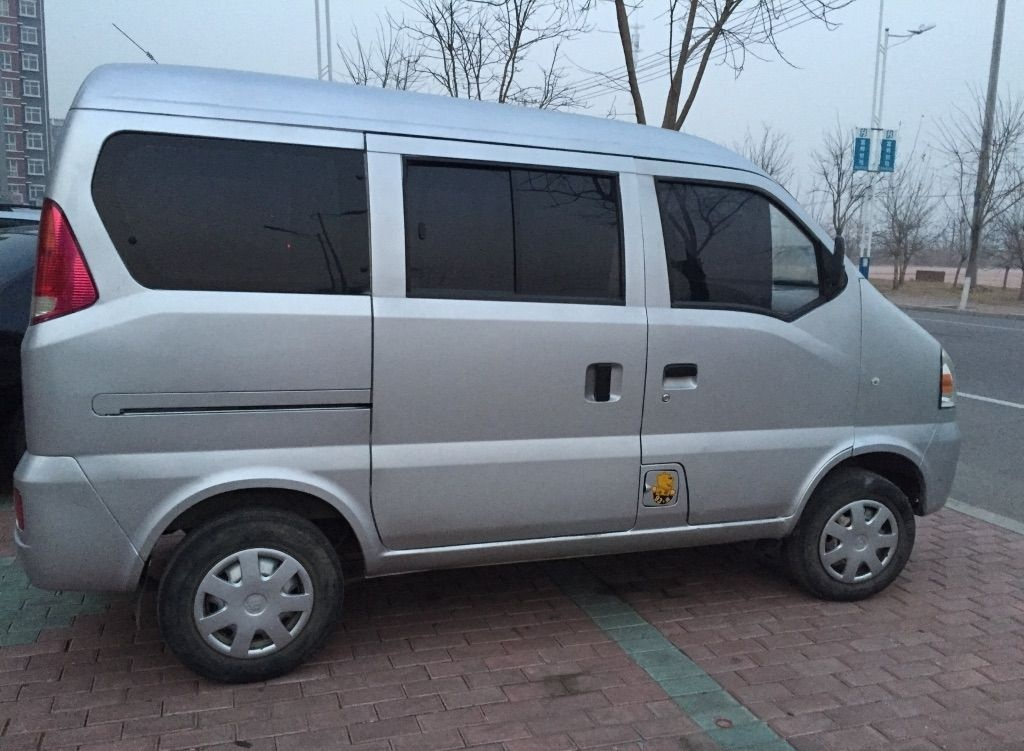minibus: (61, 73, 986, 645)
